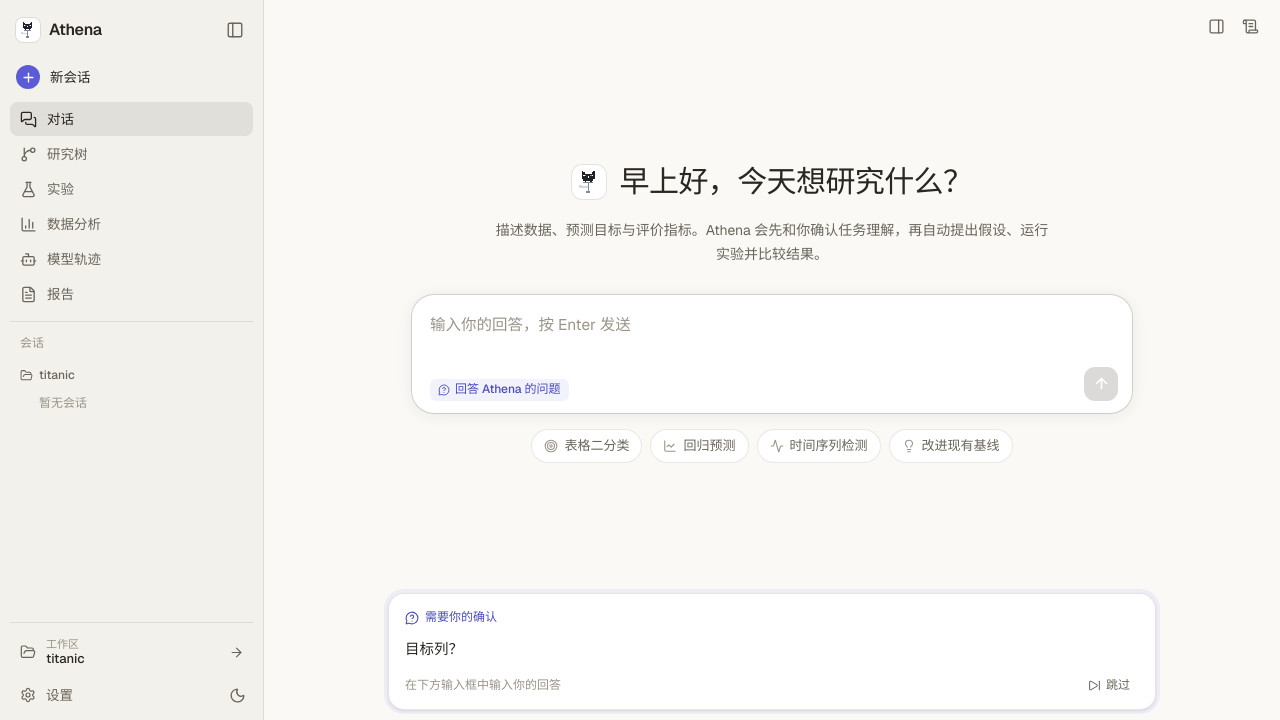
Test: AppShell › flags a pending question on the conversation entry while another view is open
Click the button "实验" at coordinates (132, 189), box [10,172,253,206]
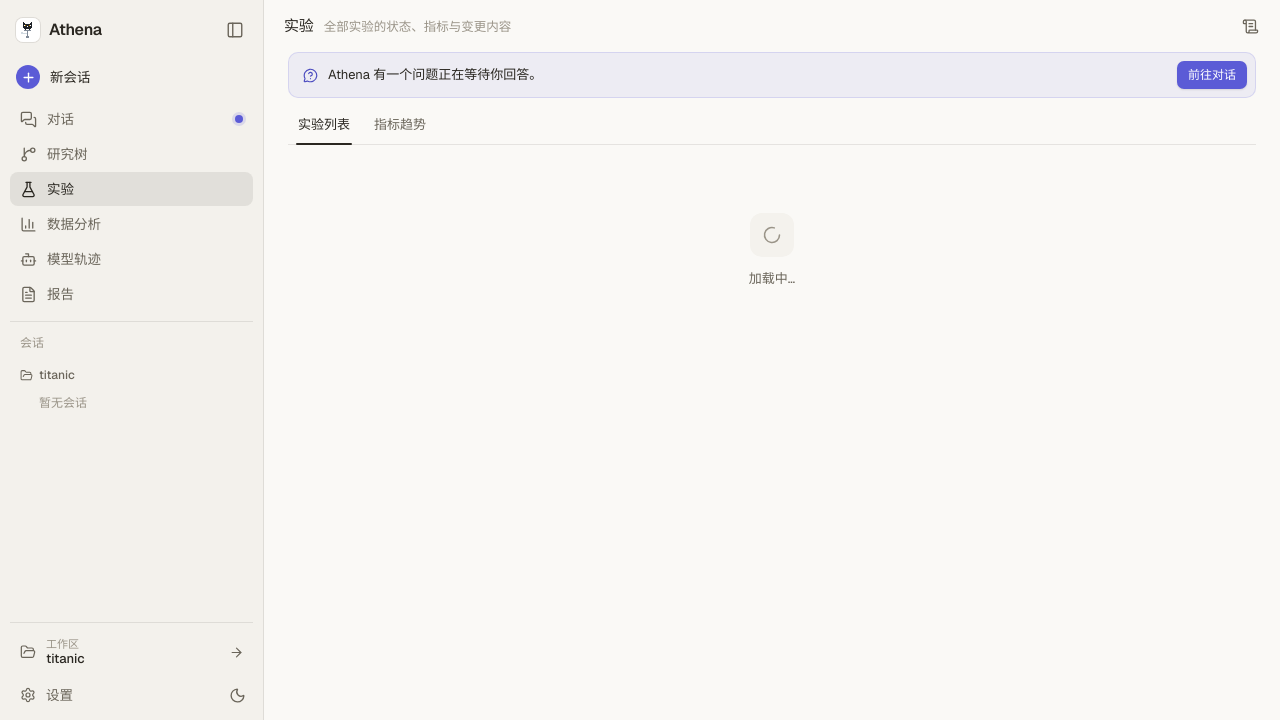
Check: the text "Athena 有一个问题正在等待你回答。" is shown, box [328,66,542,83]
Click the button "前往对话" at coordinates (1212, 75), box [1177,61,1247,89]
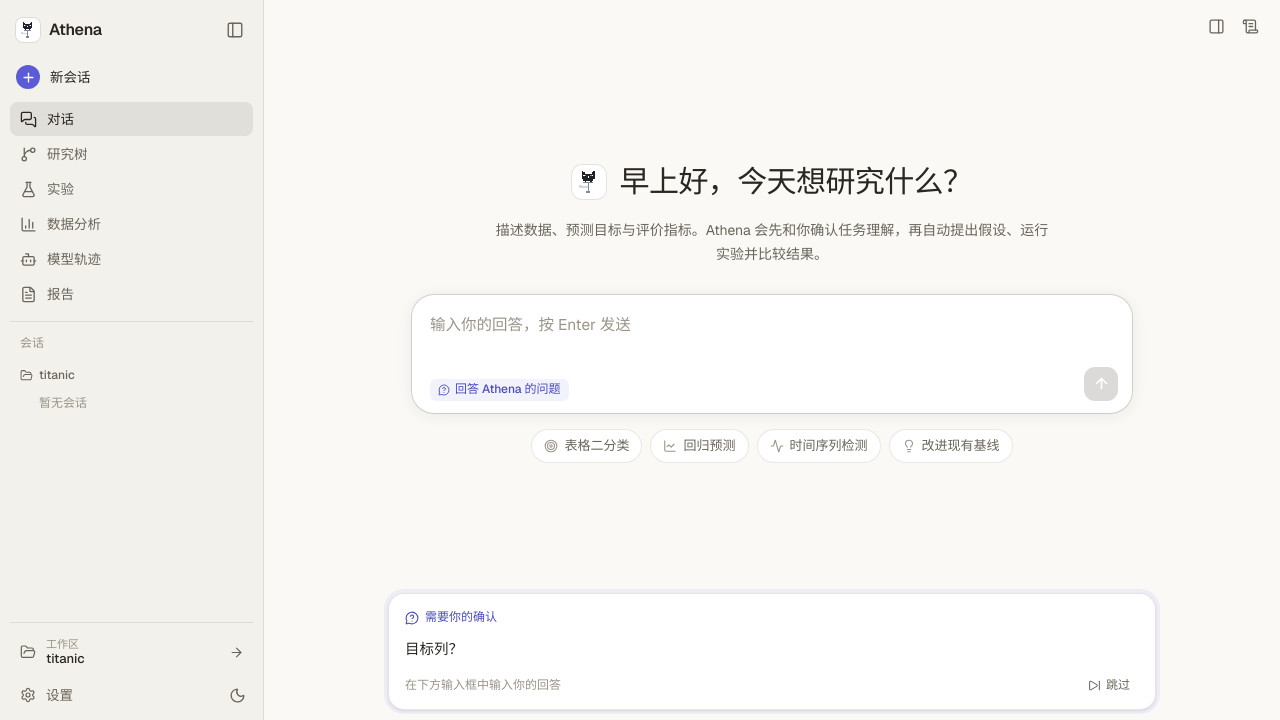
Check: the element "需要你的确认" is shown, box [388,594,1156,710]
